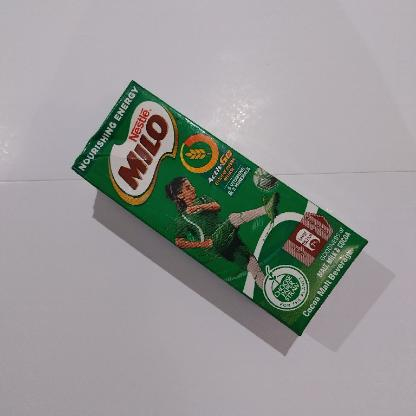Others: (72, 81, 366, 335)
